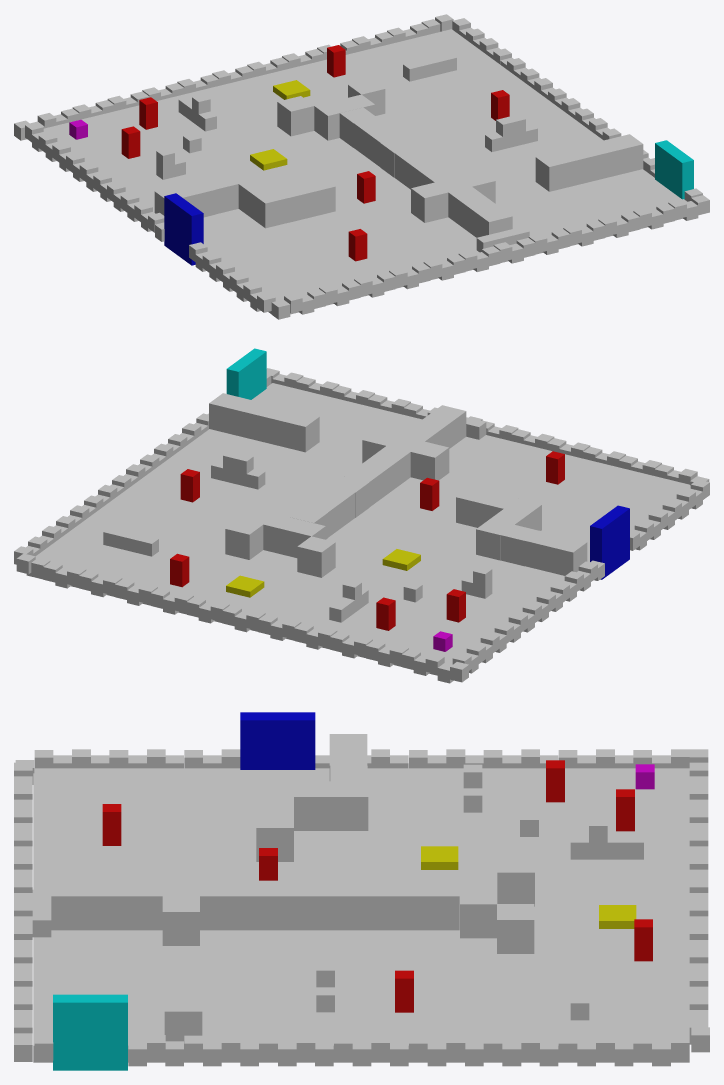
File: Level1_b6.fbx
The picture shows the model from 3 angles, top to bottom: view 1: azimuth 30°, elevation 25°; view 2: azimuth 150°, elevation 25°; view 3: azimuth 270°, elevation 25°; orthographic projection. The views are drawn at different scales.
Visible parts, largest first — view 1: pCube174, pCube180, pCube179, pCube217, pCube218, pCube209, pCube216, pCube212, pCube213, pCube210, pCube215; view 2: pCube174, pCube180, pCube179, pCube215, pCube216, pCube217, pCube212, pCube213, pCube209, pCube210, pCube218; view 3: pCube174, pCube179, pCube180, pCube209, pCube210, pCube218, pCube212, pCube215, pCube216, pCube217, pCube213.
Boxes of the visible parts, x1,y1,x2,y2 form: pCube174: (14, 14, 709, 319); pCube180: (164, 193, 203, 265); pCube179: (655, 140, 693, 199); pCube217: (121, 126, 140, 158); pCube218: (348, 229, 367, 261); pCube209: (250, 149, 287, 170); pCube216: (327, 45, 345, 77); pCube212: (139, 97, 157, 129); pCube213: (357, 171, 375, 203); pCube210: (273, 80, 310, 99); pCube215: (491, 90, 509, 120); pCube174: (14, 368, 709, 683); pCube180: (590, 505, 629, 579); pCube179: (226, 348, 266, 399); pCube215: (180, 469, 199, 502); pCube216: (170, 553, 189, 587); pCube217: (446, 589, 465, 622); pCube212: (376, 597, 395, 630); pCube213: (420, 477, 439, 510); pCube209: (382, 549, 420, 570); pCube210: (226, 575, 264, 597); pCube218: (546, 451, 564, 484); pCube174: (14, 734, 709, 1066); pCube179: (53, 994, 127, 1070); pCube180: (240, 712, 315, 769); pCube209: (421, 846, 458, 869); pCube210: (599, 905, 636, 928); pCube218: (102, 804, 121, 845); pCube212: (616, 789, 634, 831); pCube215: (395, 970, 413, 1012); pCube216: (634, 919, 652, 961); pCube217: (546, 760, 564, 802); pCube213: (259, 848, 277, 880).
Bounding box in the file's own units: 14.73 × 1.75 × 14.61.
